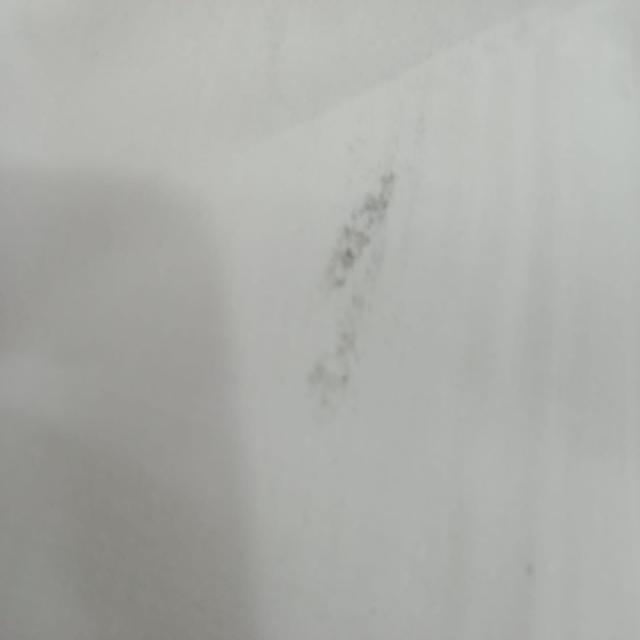stain: (304, 154, 406, 416)
